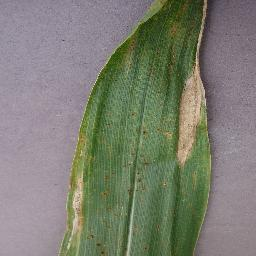Corn_Blight: (58, 42, 104, 253), (171, 1, 217, 194), (113, 105, 155, 251), (105, 1, 171, 80), (120, 64, 154, 97)
